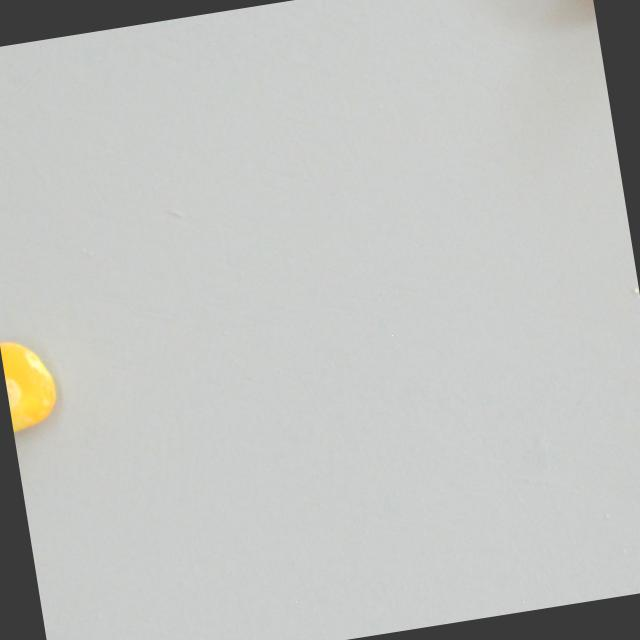pelicula: (0, 331, 71, 441)
